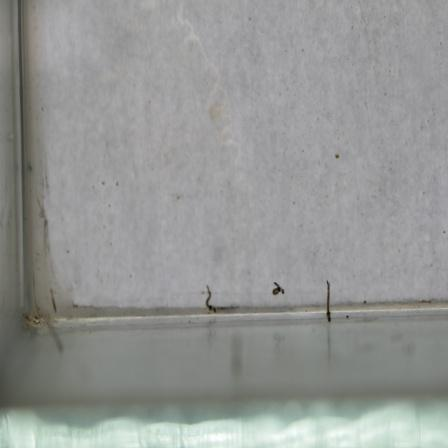Jentik-Nyamuk: (319, 275, 338, 326), (199, 283, 223, 315), (270, 278, 288, 301)
